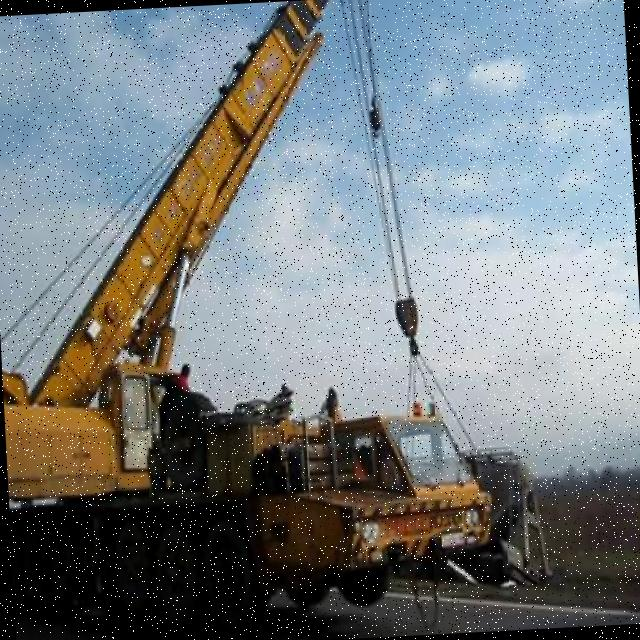Mobile Crane: (0, 0, 491, 621)
